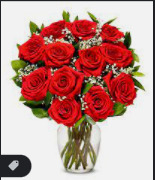RedRose: (16, 66, 55, 103), (81, 87, 117, 121), (52, 65, 86, 99), (74, 45, 105, 78), (42, 39, 77, 66), (68, 17, 99, 41)
